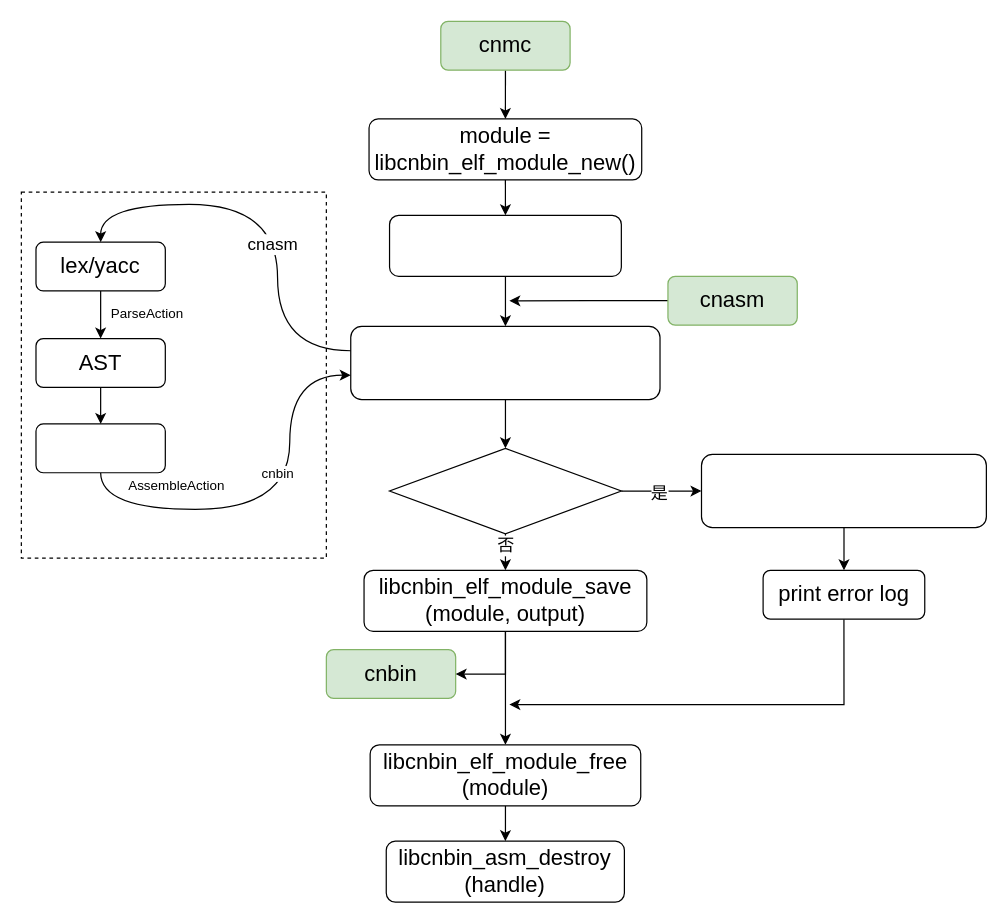
Some shapes in this 1008 by 924 pixel diagram are drawn without their labels. The shapes that lost their labels are listed below. From the top down, each one's centre as x and y in pixels, then its label:
At pixel 504 245: "libcnbin_asm_create (handle， cnasm_buf)".
At pixel 505 362: "ret = libcnbin_asm_assemble (handle， module)".
At pixel 100 448: "CNBinMgr".
At pixel 504 490: "ret == ASM_ASSEMBLE_FAILED".
At pixel 843 490: "libcnbin_asm_get_error_log (handle，error_log)".
